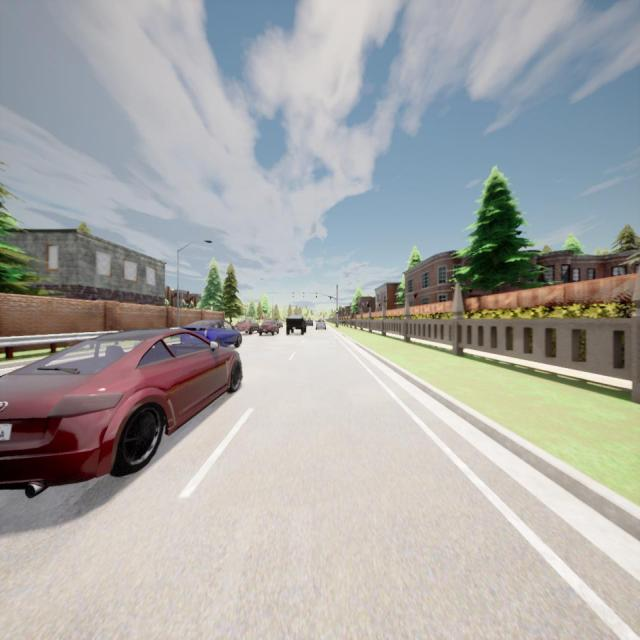Vehicle: (2, 330, 242, 498), (181, 320, 241, 344), (286, 315, 306, 337), (236, 319, 260, 336), (260, 318, 280, 337), (316, 319, 326, 331), (274, 320, 283, 328), (306, 318, 313, 326)
traffic_light: (292, 292, 294, 298), (316, 292, 318, 298), (303, 292, 304, 298)
